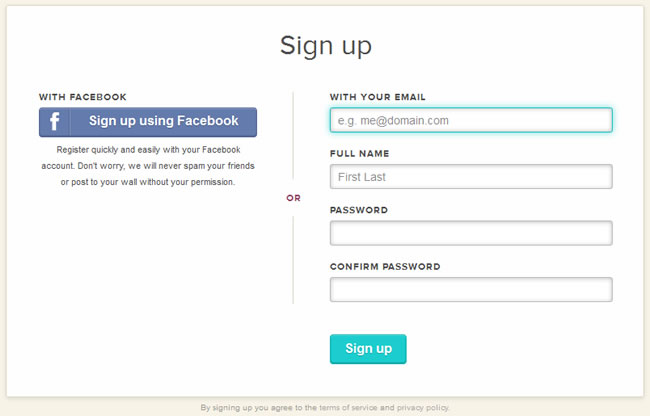_form_: (300, 78, 650, 416), (24, 73, 283, 192)
button: (37, 106, 257, 138), (328, 333, 406, 364)
field: (326, 104, 614, 134), (327, 162, 613, 190), (328, 219, 613, 246), (329, 275, 613, 302)
field_with_label: (325, 91, 616, 135), (327, 205, 617, 248), (328, 261, 616, 304), (325, 149, 615, 191)
